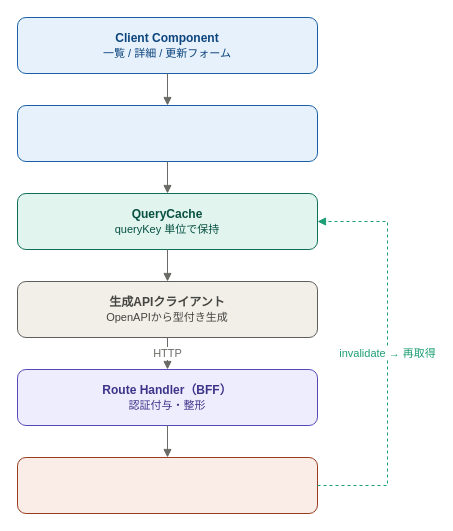
The diagram is 453 pixels wide and 531 high, and some of its shapes have lost their labels. The box of each missing label's shape, as (x1, y1, x2, y2) in pixels:
Spring Boot REST API / DB: (16, 456, 318, 514)
useQuery / useMutation 取得・更新・状態管理: (16, 104, 318, 162)
